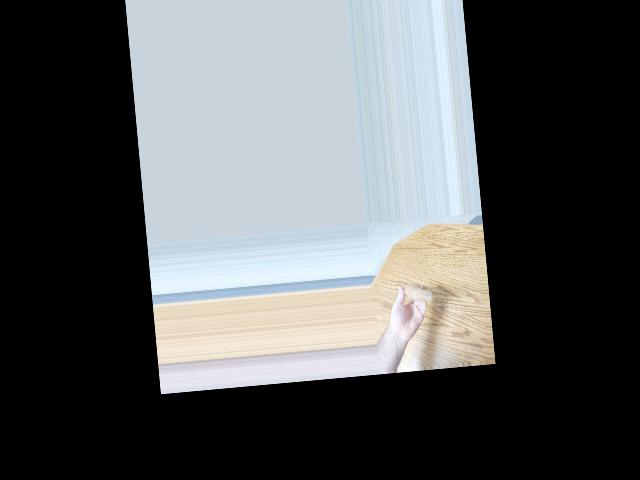sweet_potato: (401, 284, 433, 305)
